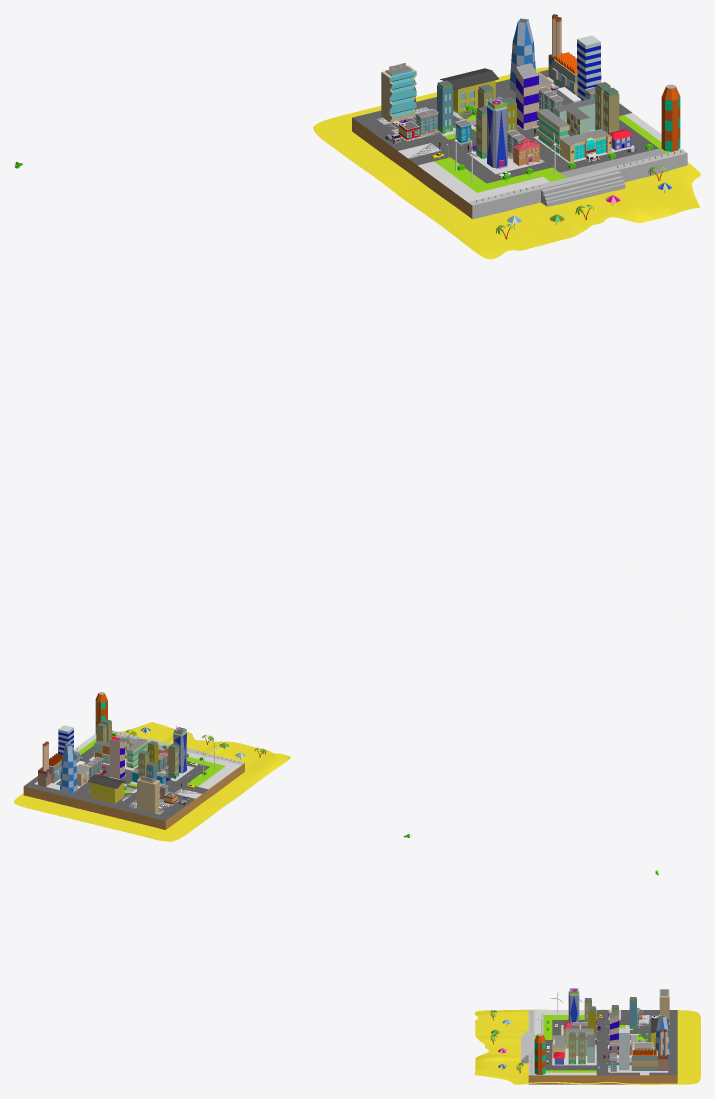
Rendered from city.fbx.
3 views of the same model, one above another, from view 1: azimuth 30°, elevation 25°; view 2: azimuth 150°, elevation 25°; view 3: azimuth 270°, elevation 25° (orthographic). The views are drawn at different scales.
Parts seen in each view (by area): view 1: Plane.007, Cube.035_Cube.000, Cube.035_Cube.037, Cube.002, Plane.012, Cube.088, Cube.044_Cube.040, Cube.087, Cube.083, Cube.194, Cube.017, Cube.086 (+1 smaller); view 2: Plane.007, Cube.035_Cube.000, Cube.035_Cube.037, Cube.044_Cube.040, Cube.002, Cube.194, Cube.088, Plane.012, Cube.086, Cube.083, Cube.087; view 3: Plane.007, Cube.035_Cube.000, Cube.035_Cube.037, Cube.087, Cube.056, Plane.012, Cube.194, Cube.088.
Part boxes in pixels (x1,y1,x2,y2): Plane.007: (313,67,700,259); Cube.035_Cube.000: (352,69,682,201); Cube.035_Cube.037: (352,118,687,219); Cube.002: (381,65,416,122); Plane.012: (486,97,507,168); Cube.088: (516,63,538,129); Cube.044_Cube.040: (440,68,498,112); Cube.087: (661,84,680,151); Cube.083: (553,98,595,136); Cube.194: (509,18,535,92); Cube.017: (560,129,611,162); Cube.086: (537,108,569,154); Plane.007: (14,722,290,841); Cube.035_Cube.000: (24,734,241,820); Cube.035_Cube.037: (23,730,244,829); Cube.044_Cube.040: (88,774,126,803); Cube.002: (137,776,160,813); Cube.194: (60,743,77,793); Cube.088: (109,739,124,779); Plane.012: (173,727,186,773); Cube.086: (126,738,147,768); Cube.083: (94,737,128,764); Cube.087: (95,692,107,733); Plane.007: (474,1009,700,1084); Cube.035_Cube.000: (534,1010,677,1075); Cube.035_Cube.037: (521,1010,677,1084); Cube.087: (534,1033,545,1074); Cube.056: (631,1051,657,1070); Plane.012: (568,988,579,1028); Cube.194: (655,1014,669,1060); Cube.088: (609,1010,619,1049).
Bounding box in the file's own units: 7580 × 1060 × 12657.
